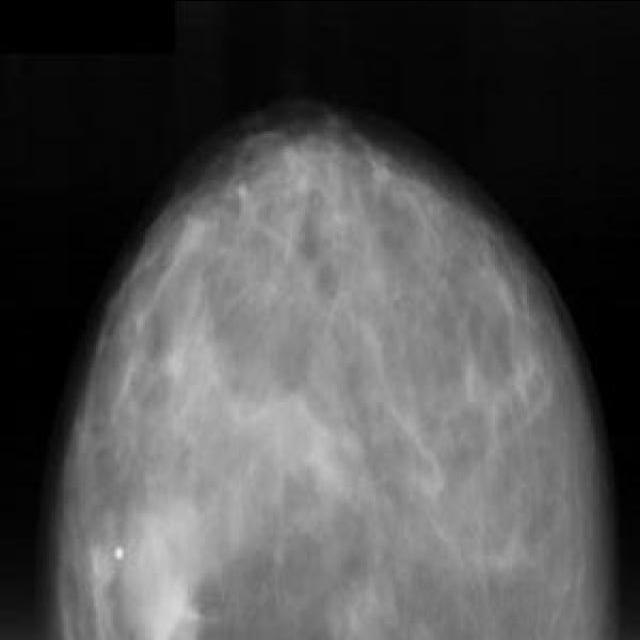tumor: (82, 493, 208, 632)
